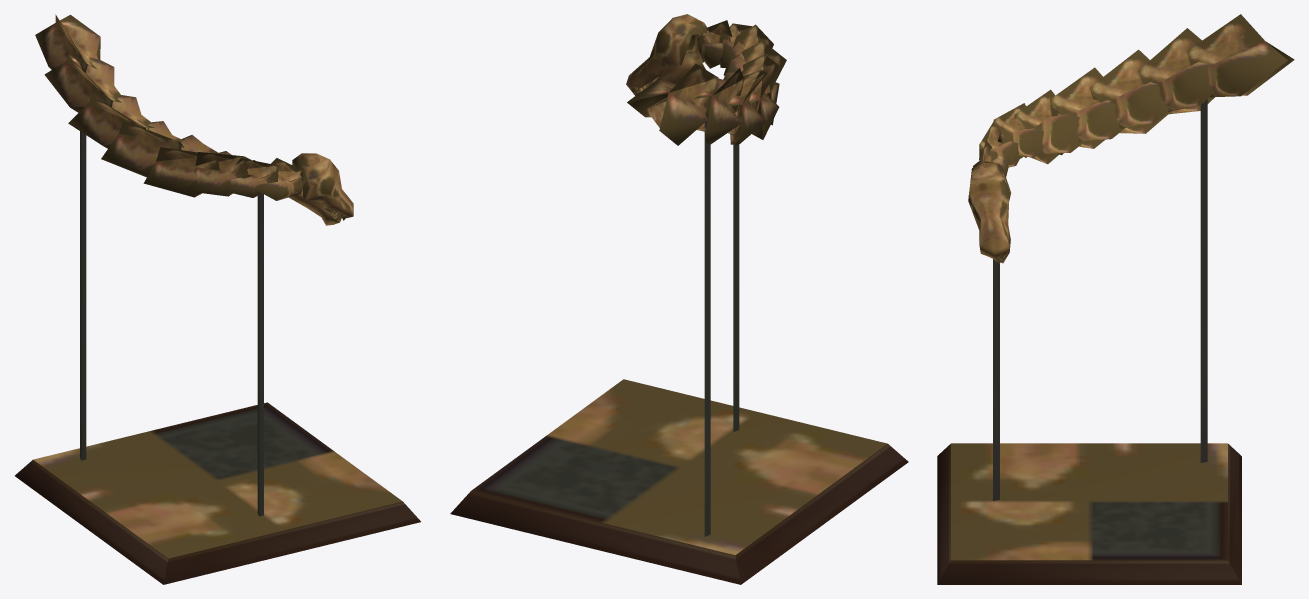
File: int_din_sei_e.dae
The picture shows the model from 3 angles, left to right: view 1: azimuth 30°, elevation 25°; view 2: azimuth 150°, elevation 25°; view 3: azimuth 270°, elevation 25°; orthographic projection. The views are drawn at different scales.
Visible parts, largest first — view 1: int_din_sei_e; view 2: int_din_sei_e; view 3: int_din_sei_e.
Part boxes in pixels (x1=…): int_din_sei_e: x1=15, y1=14, x2=420, y2=584; int_din_sei_e: x1=450, y1=14, x2=908, y2=584; int_din_sei_e: x1=937, y1=14, x2=1294, y2=584.
Size of the model in its own units: 58.65 by 98.23 by 68.85.
Materials: 1 (1 with a texture image).
